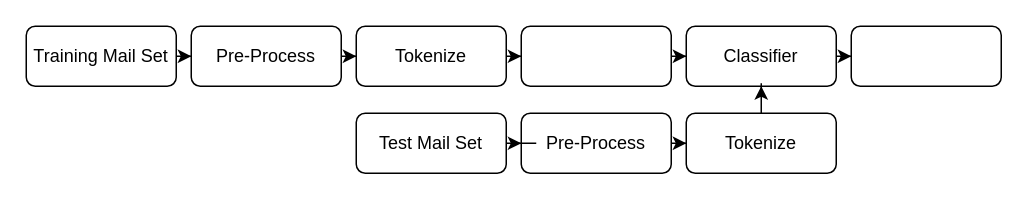
This 1028x200 diagram has some shape labels left out. Each missing label, with the centre of its shape:
Ham / Spam: (925,55)
Model Training: (595,55)
